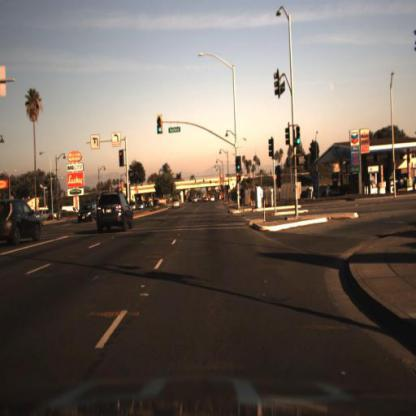car: (95, 190, 139, 235), (1, 200, 43, 246), (76, 198, 97, 226), (77, 202, 101, 223), (172, 196, 183, 210)
trafficLight-Green: (156, 115, 165, 136), (297, 124, 305, 147), (236, 155, 245, 174), (235, 160, 243, 178), (298, 134, 303, 150)
trafficLight-RedLeft: (118, 147, 124, 165)
